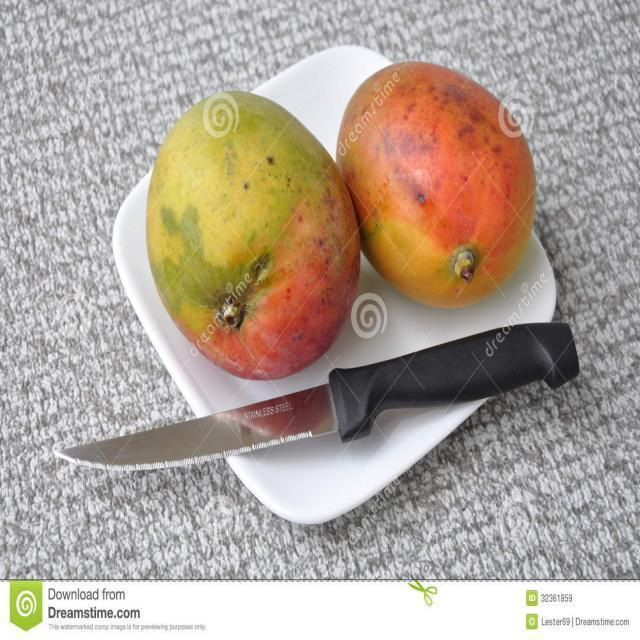Mango: (145, 88, 361, 380), (336, 60, 538, 309)
